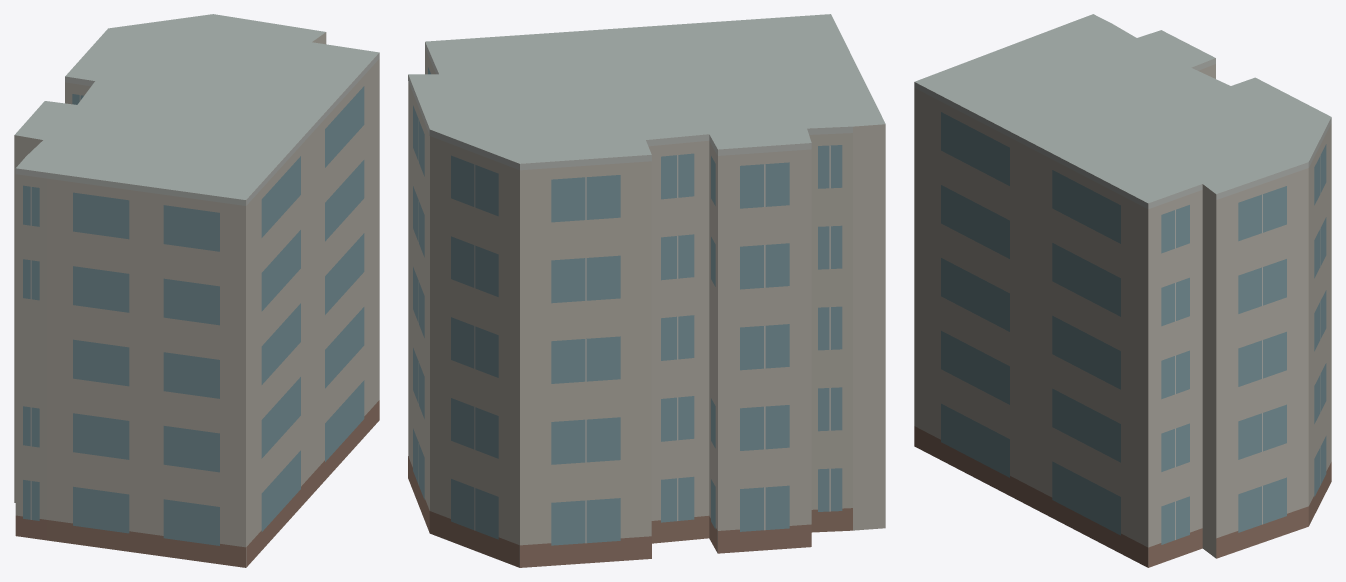
File: survey-upis-32725387.glb
3 renders of one model, left to right at view 1: azimuth 30°, elevation 25°; view 2: azimuth 150°, elevation 25°; view 3: azimuth 270°, elevation 25°, orthographic. The views are drawn at different scales.
Parts seen in each view (by area): view 1: survey-upis-32725387.tmp; view 2: survey-upis-32725387.tmp; view 3: survey-upis-32725387.tmp.
Boxes of the visible parts, x1,y1,x2,y2 form: survey-upis-32725387.tmp: (14,14,379,567); survey-upis-32725387.tmp: (408,14,885,567); survey-upis-32725387.tmp: (914,14,1331,567).
Size of the model in its own units: 16.95 by 15.2 by 15.78.
